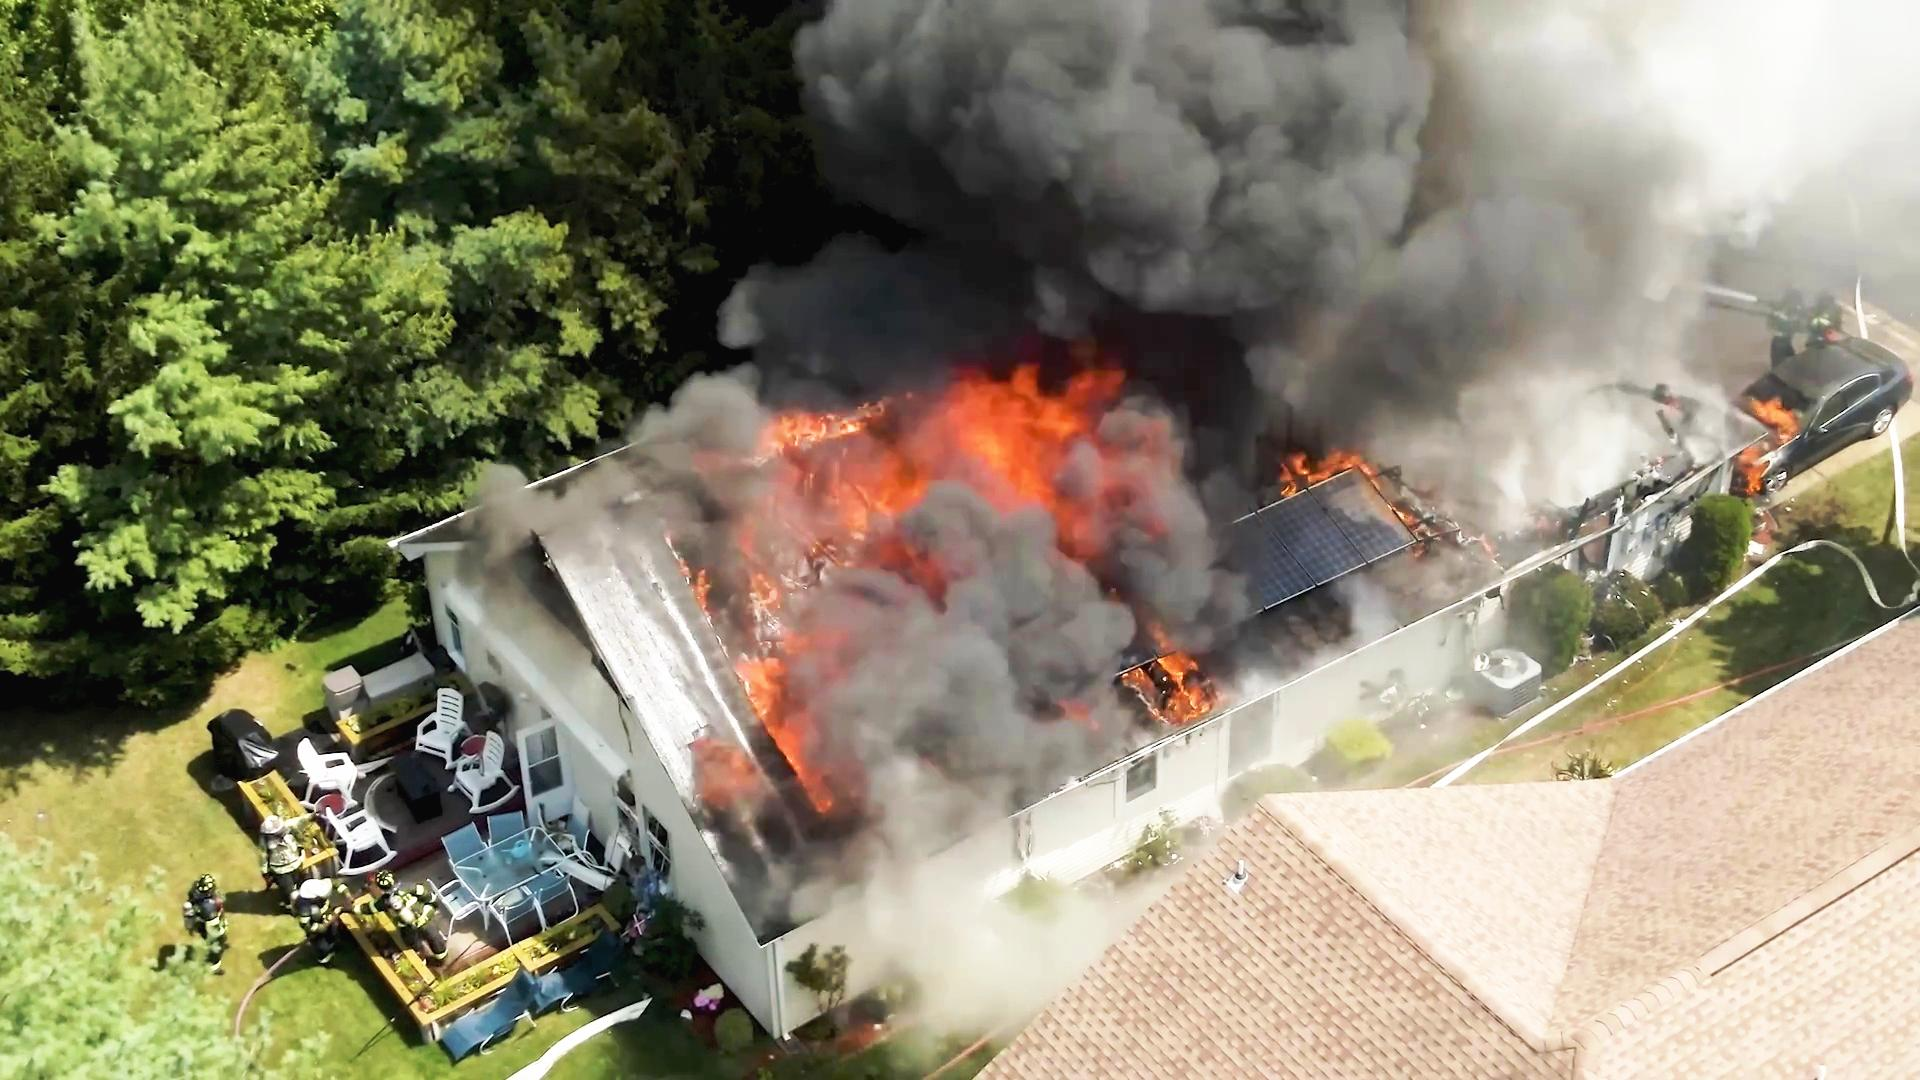fire: (752, 360, 1093, 530)
smoke: (1294, 0, 1706, 465), (818, 0, 1431, 311)
